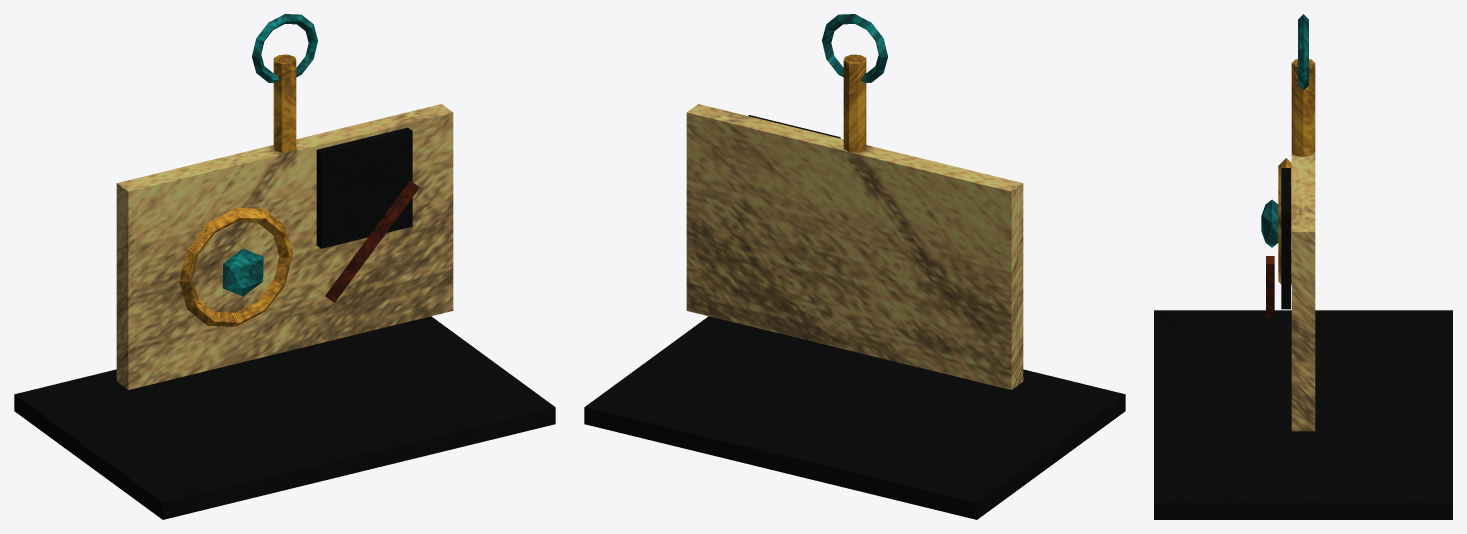
The model's file is ours-unless-marker.glb.
3 views of the same model, side by side, from view 1: azimuth 30°, elevation 25°; view 2: azimuth 150°, elevation 25°; view 3: azimuth 270°, elevation 25° (orthographic).
Visible parts, largest first — view 1: ours-unless-marker; view 2: ours-unless-marker; view 3: ours-unless-marker.
Boxes of the visible parts, left/top/right/bottom form: ours-unless-marker: left=14, top=14, right=555, bottom=519; ours-unless-marker: left=584, top=14, right=1125, bottom=519; ours-unless-marker: left=1154, top=14, right=1452, bottom=519.
Bounding box in the file's own units: 5.8 × 5.7 × 3.8.
1 material, 1 textured.
